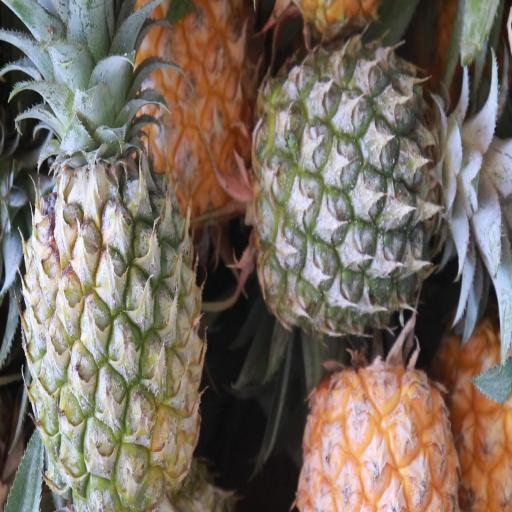Pineapple - v8 v1: (299, 348, 486, 512), (137, 0, 258, 218)
